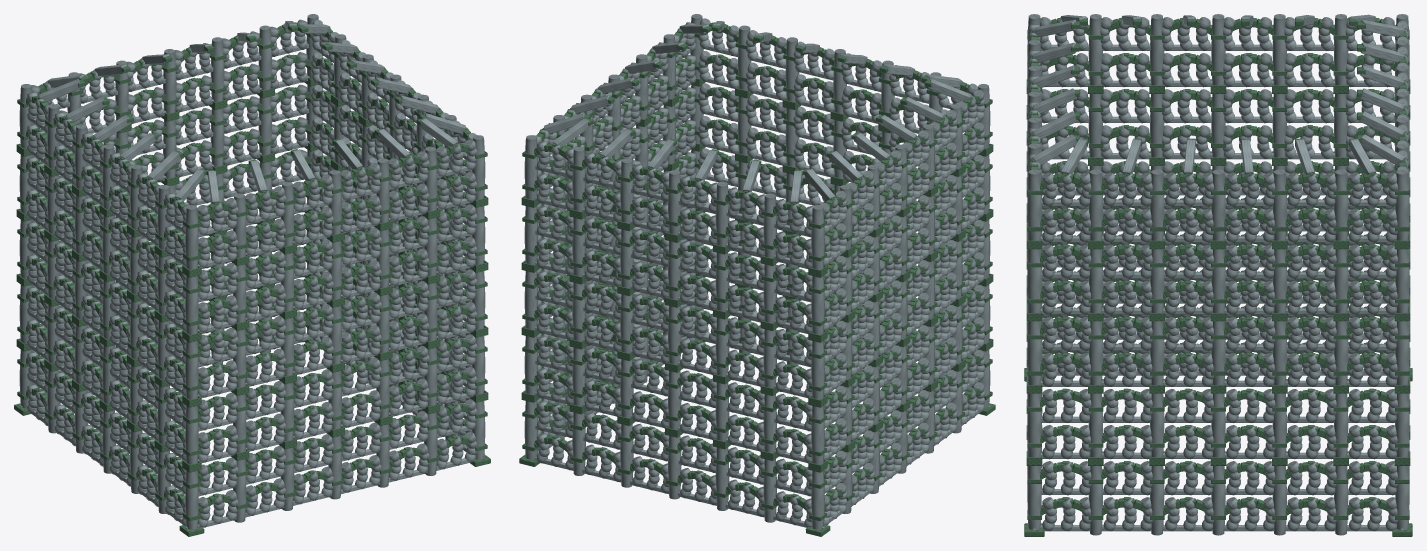
3 views of the same model, side by side, from view 1: azimuth 30°, elevation 25°; view 2: azimuth 150°, elevation 25°; view 3: azimuth 270°, elevation 25° (orthographic). The views are drawn at different scales.
Visible parts, largest first — view 1: Tier 4 side 0 post 0, Tier 4 side 2 post 2, Tier 4 side 2 post 1, Tier 0 side 0 post 0, Tier 1 side 0 post 0, Tier 2 side 0 post 0, Tier 3 side 0 post 0, Tier 4 side 2 post 3, Tier 3 side 2 post 2, Tier 3 side 2 post 1, Tier 4 side 0 post 1, Tier 4 side 0 post 2 (+6 smaller); view 2: Tier 4 side 3 post 0, Tier 4 side 2 post 0, Tier 4 side 2 post 5, Tier 4 side 2 post 1, Tier 4 side 2 post 4, Tier 4 side 2 post 2, Tier 4 side 2 post 3, Tier 0 side 2 post 5, Tier 0 side 2 post 4, Tier 2 side 3 post 0, Tier 1 side 3 post 0, Tier 0 side 3 post 0 (+25 smaller); view 3: Tier 4 side 1 post 0, Tier 4 side 3 post 2, Tier 4 side 3 post 3, Tier 4 side 3 post 5, Tier 4 side 3 post 4, Tier 4 side 2 post 0, Tier 4 side 3 post 1, Tier 1 side 1 post 0, Tier 4 side 1 post 2, Tier 4 side 1 post 5, Tier 4 side 1 post 3, Tier 2 side 1 post 0 (+42 smaller).
Boxes of the visible parts, x1=… form: Tier 4 side 0 post 0: x1=185, y1=205, x2=198, y2=269; Tier 4 side 2 post 2: x1=210, y1=37, x2=224, y2=102; Tier 4 side 2 post 1: x1=258, y1=25, x2=271, y2=90; Tier 0 side 0 post 0: x1=185, y1=471, x2=198, y2=529; Tier 1 side 0 post 0: x1=185, y1=406, x2=198, y2=464; Tier 2 side 0 post 0: x1=185, y1=341, x2=198, y2=399; Tier 3 side 0 post 0: x1=185, y1=276, x2=198, y2=334; Tier 4 side 2 post 3: x1=163, y1=49, x2=176, y2=113; Tier 3 side 2 post 2: x1=210, y1=108, x2=224, y2=166; Tier 3 side 2 post 1: x1=258, y1=96, x2=271, y2=155; Tier 4 side 0 post 1: x1=233, y1=193, x2=246, y2=258; Tier 4 side 0 post 2: x1=280, y1=181, x2=294, y2=246; Tier 4 side 3 post 0: x1=811, y1=205, x2=824, y2=269; Tier 4 side 2 post 0: x1=524, y1=135, x2=538, y2=199; Tier 4 side 2 post 5: x1=763, y1=193, x2=776, y2=258; Tier 4 side 2 post 1: x1=572, y1=146, x2=585, y2=211; Tier 4 side 2 post 4: x1=715, y1=181, x2=729, y2=246; Tier 4 side 2 post 2: x1=620, y1=158, x2=633, y2=223; Tier 4 side 2 post 3: x1=668, y1=170, x2=681, y2=234; Tier 0 side 2 post 5: x1=763, y1=459, x2=776, y2=522; Tier 0 side 2 post 4: x1=715, y1=447, x2=729, y2=510; Tier 2 side 3 post 0: x1=811, y1=341, x2=824, y2=399; Tier 1 side 3 post 0: x1=811, y1=406, x2=824, y2=464; Tier 0 side 3 post 0: x1=811, y1=471, x2=824, y2=529; Tier 4 side 1 post 0: x1=1027, y1=169, x2=1041, y2=240; Tier 4 side 3 post 2: x1=1272, y1=14, x2=1286, y2=85; Tier 4 side 3 post 3: x1=1211, y1=14, x2=1225, y2=85; Tier 4 side 3 post 5: x1=1088, y1=14, x2=1102, y2=85; Tier 4 side 3 post 4: x1=1150, y1=14, x2=1164, y2=85; Tier 4 side 2 post 0: x1=1395, y1=169, x2=1409, y2=240; Tier 4 side 3 post 1: x1=1334, y1=14, x2=1348, y2=85; Tier 1 side 1 post 0: x1=1027, y1=393, x2=1041, y2=457; Tier 4 side 1 post 2: x1=1150, y1=169, x2=1164, y2=240; Tier 4 side 1 post 5: x1=1334, y1=169, x2=1348, y2=240; Tier 4 side 1 post 3: x1=1211, y1=169, x2=1225, y2=240; Tier 2 side 1 post 0: x1=1027, y1=321, x2=1041, y2=384.
Bounding box in the file's own units: 2.85 × 3.05 × 2.85.
2 materials, 2 textured.
